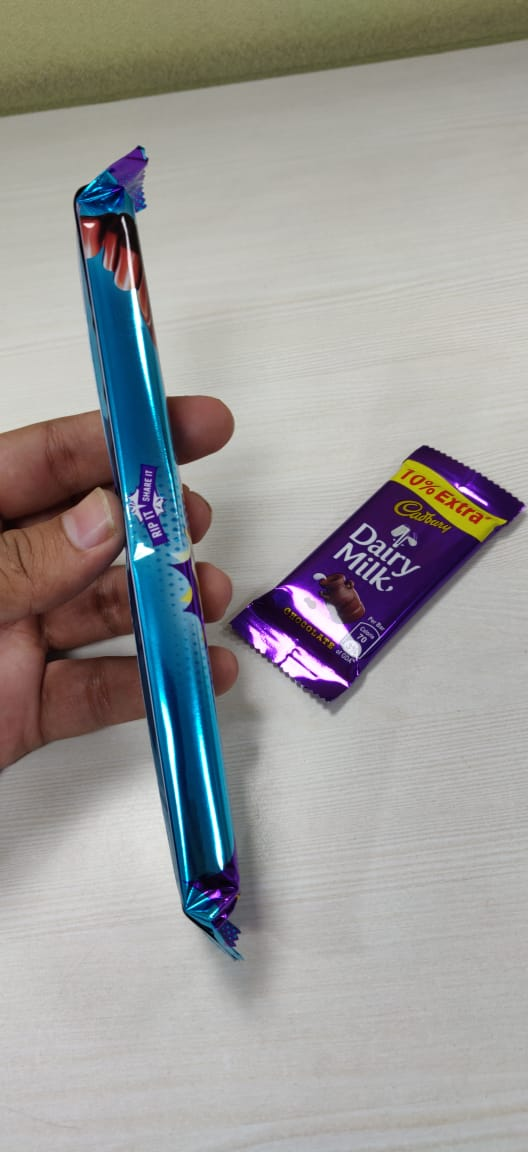dairy milk: (240, 420, 524, 749)
perk: (50, 130, 257, 972)
